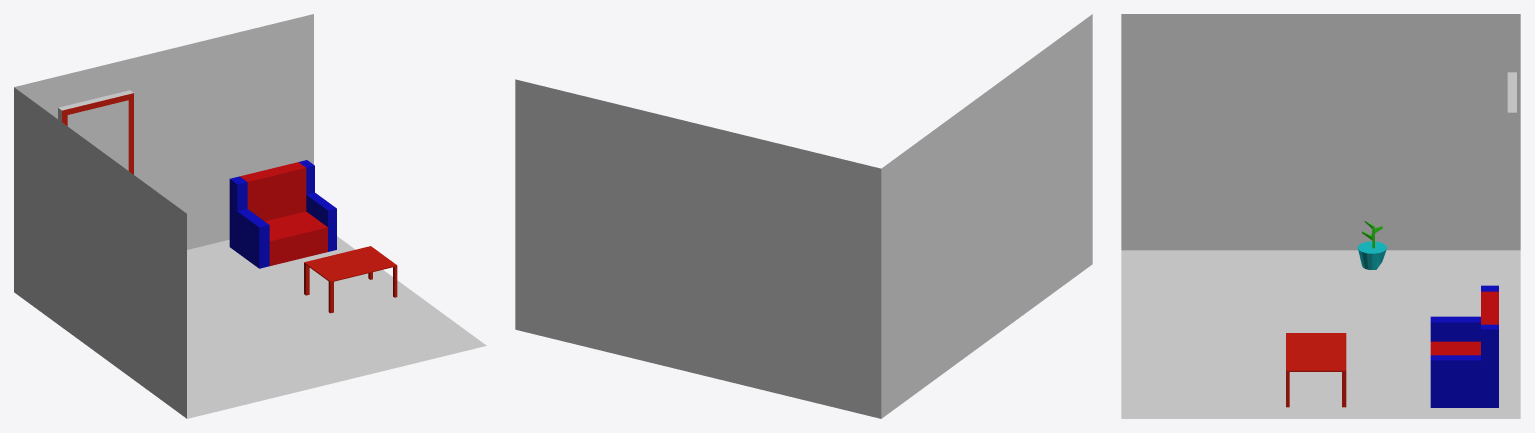
The model's file is room3.obj.
The picture shows the model from 3 angles, left to right: view 1: azimuth 30°, elevation 25°; view 2: azimuth 150°, elevation 25°; view 3: azimuth 270°, elevation 25°; orthographic projection. The views are drawn at different scales.
Visible parts, largest first — view 1: Plane, Cube_Cube.001, Plane.001; view 2: Plane; view 3: Plane, Cube_Cube.001, Plane.001, Cylinder_Cylinder.001.
Part boxes in pixels (x1=…): Plane: x1=14, y1=14, x2=486, y2=418; Cube_Cube.001: x1=229, y1=160, x2=336, y2=268; Plane.001: x1=304, y1=246, x2=397, y2=313; Plane: x1=515, y1=14, x2=1092, y2=418; Plane: x1=1121, y1=14, x2=1520, y2=418; Cube_Cube.001: x1=1430, y1=285, x2=1498, y2=407; Plane.001: x1=1286, y1=333, x2=1346, y2=407; Cylinder_Cylinder.001: x1=1357, y1=220, x2=1386, y2=269.
Bounding box in the file's own units: 7.55 × 4.98 × 7.55.
